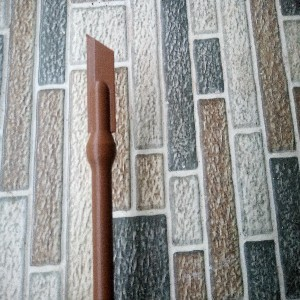cutter: (84, 31, 118, 300)
